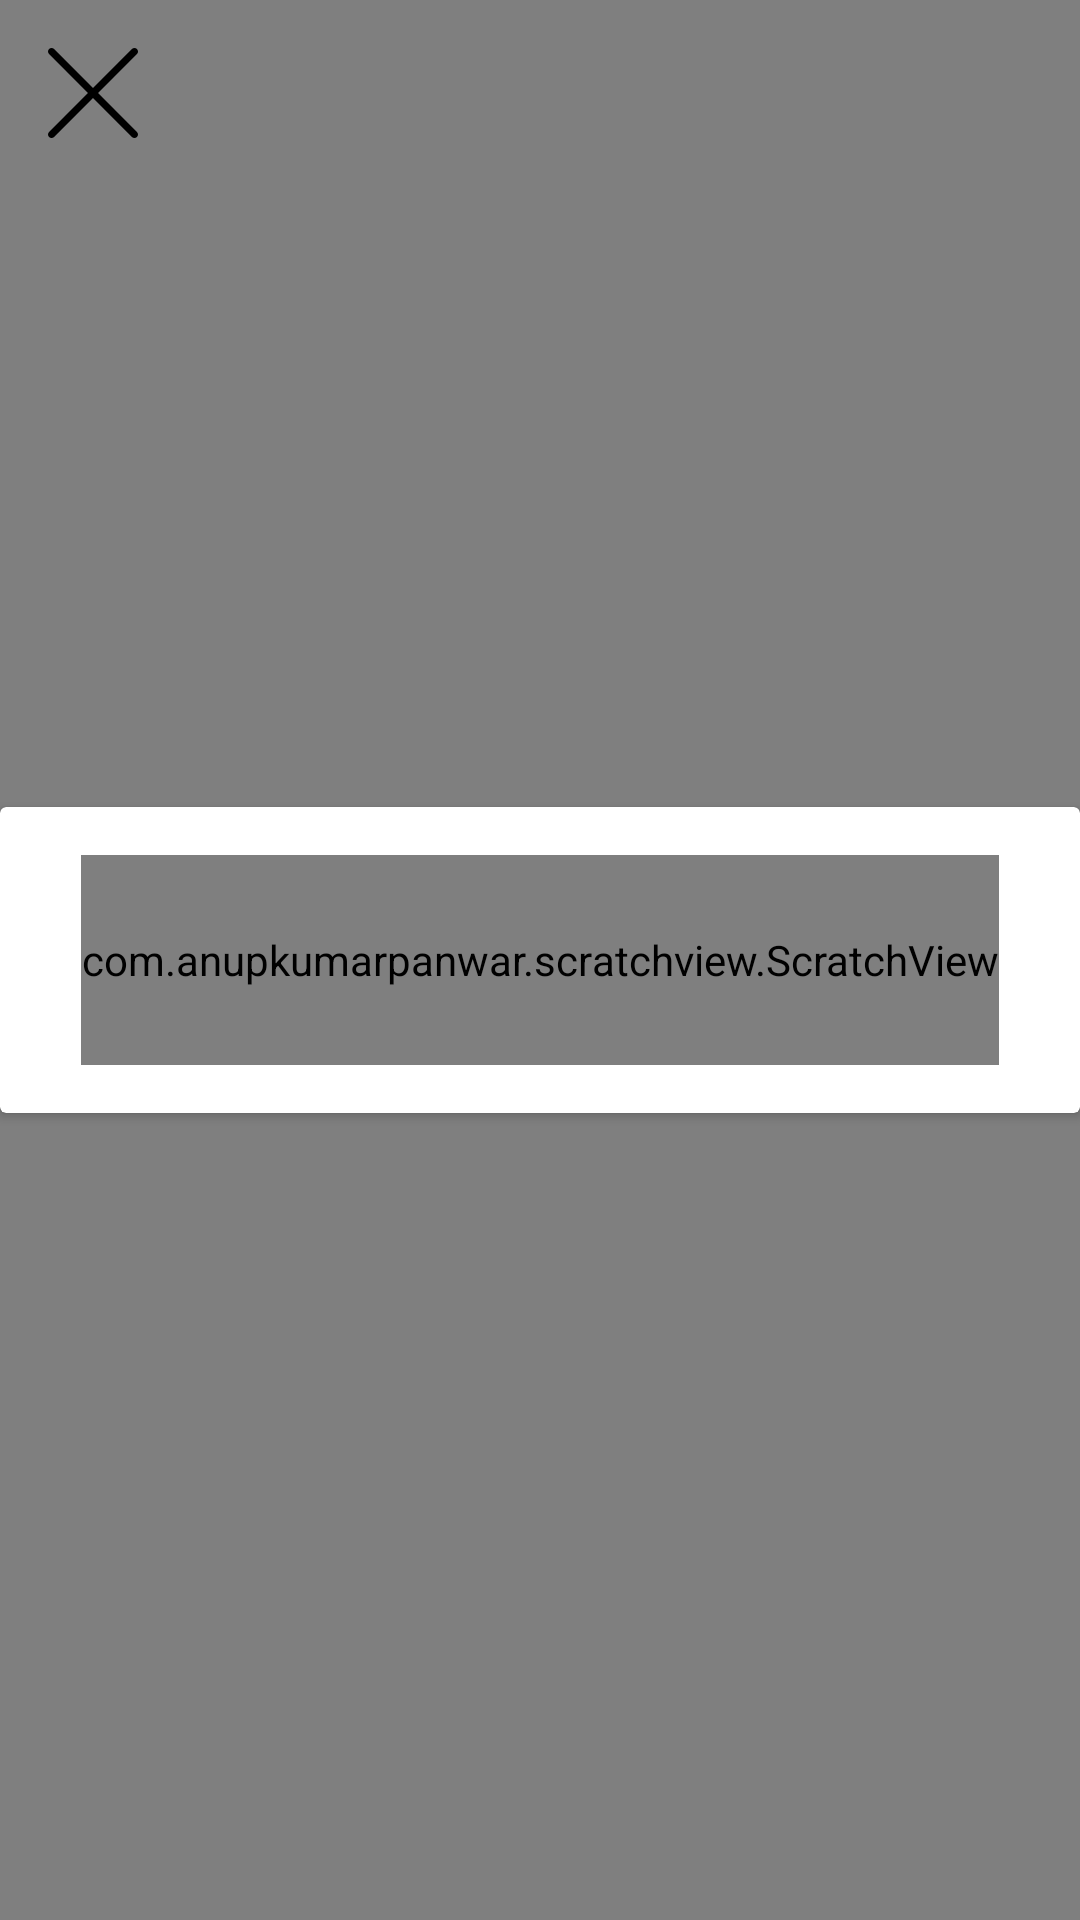

Screen size 1080px x 1920px. Icon name, then its center in pixels as (x=x, y=y):
cancel: (x=93, y=93)
